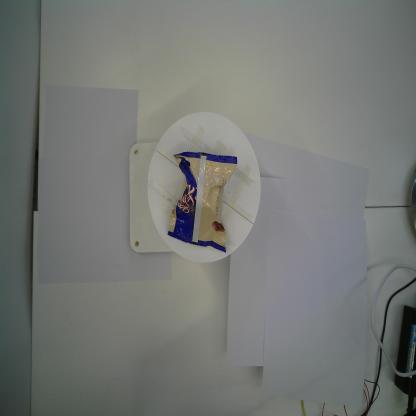Dessert: (166, 151, 238, 253)
